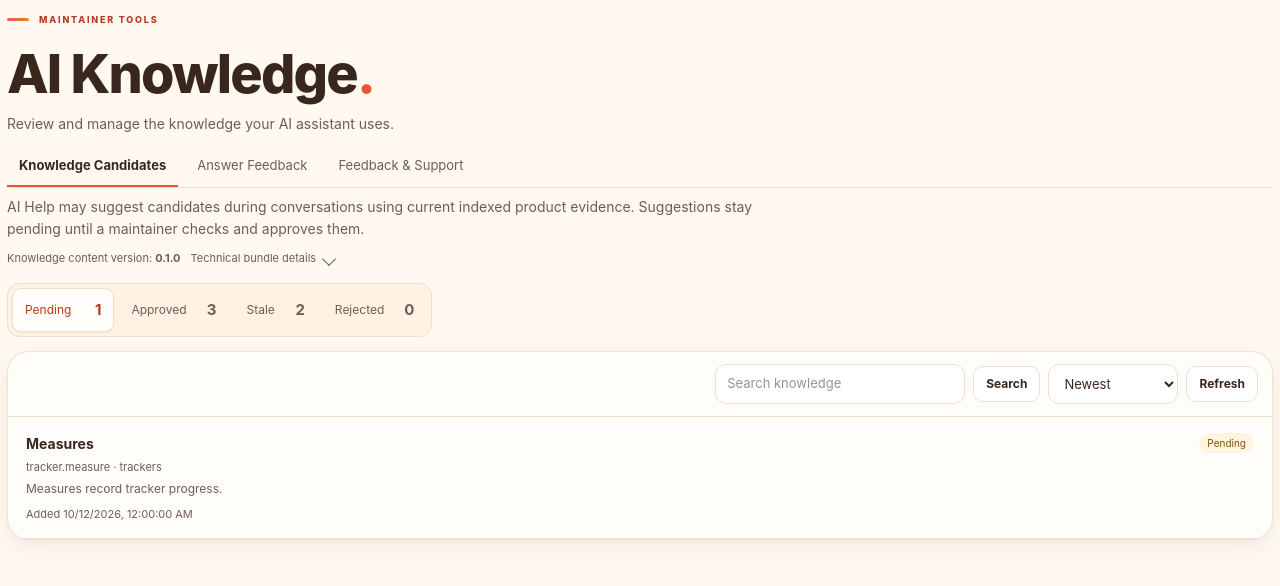
Test case: AI Knowledge dashboard › shows counts and server-filtered knowledge rows
Expected: the button "Measures" is shown, top-left (8, 417), bottom-right (1272, 539)
Expected: the text "3" is shown, top-left (207, 300), bottom-right (216, 318)
Step 1. Click the heading "Technical bundle details" → {"x": 264, "y": 259}, box top-left (190, 250), bottom-right (337, 267)
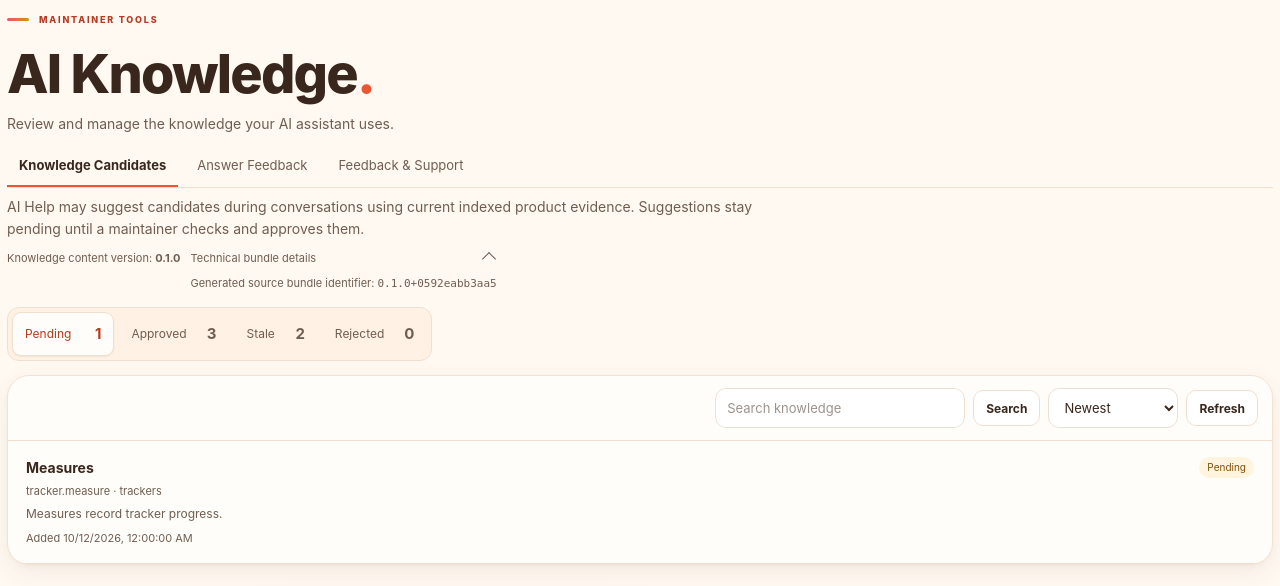
Now the text "0.1.0+0592eabb3aa5" is shown, box top-left (378, 277), bottom-right (497, 290)
